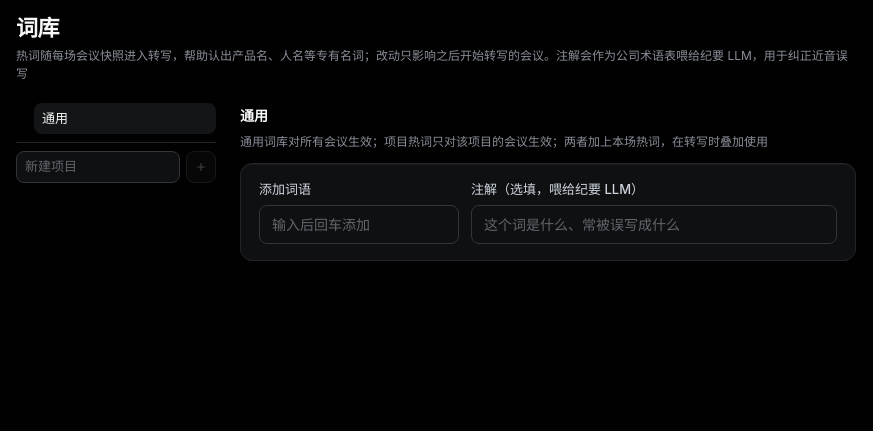
Test case: 词库页 › 回车添加词语并出现在列表；重复词把 409 详情展示出来
Type "meeting-workbench" into the field labelled "添加词语" at [359, 224], box [259,205,459,244]
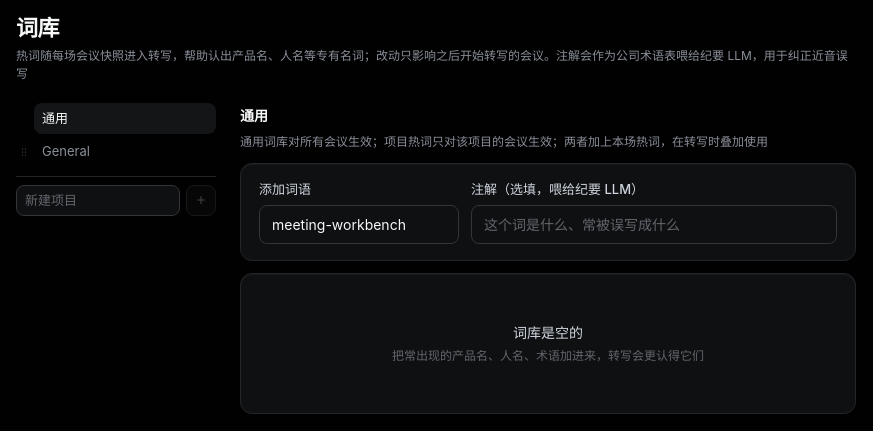
Press Enter in the field labelled "添加词语", box [259,205,459,244]
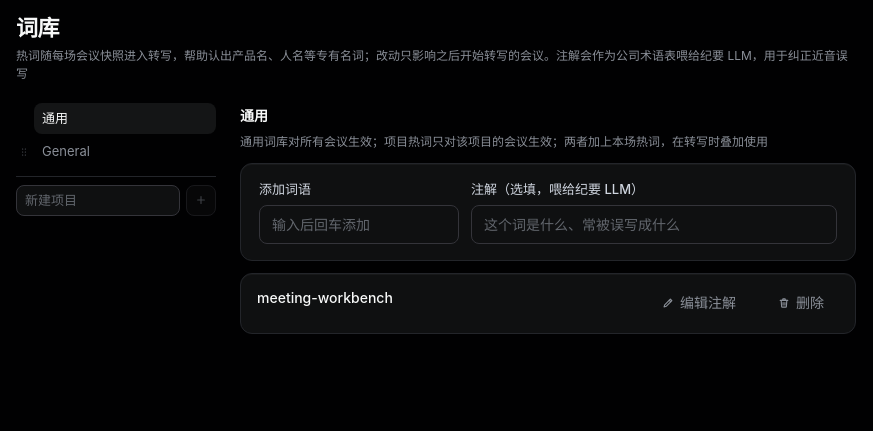
Now the text "meeting-workbench" is shown, box [257,289,393,306]
Now the field labelled "添加词语" is empty
Type "已存在" into the field labelled "添加词语" at [359, 224], box [259,205,459,244]
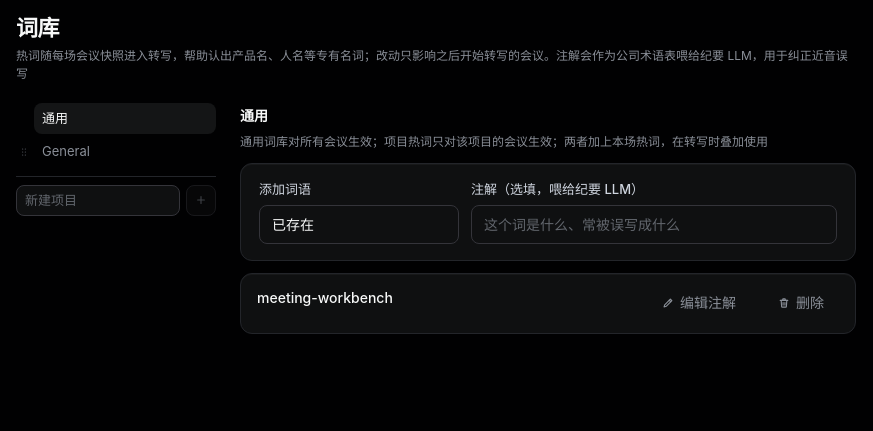
Press Enter in the field labelled "添加词语", box [259,205,459,244]
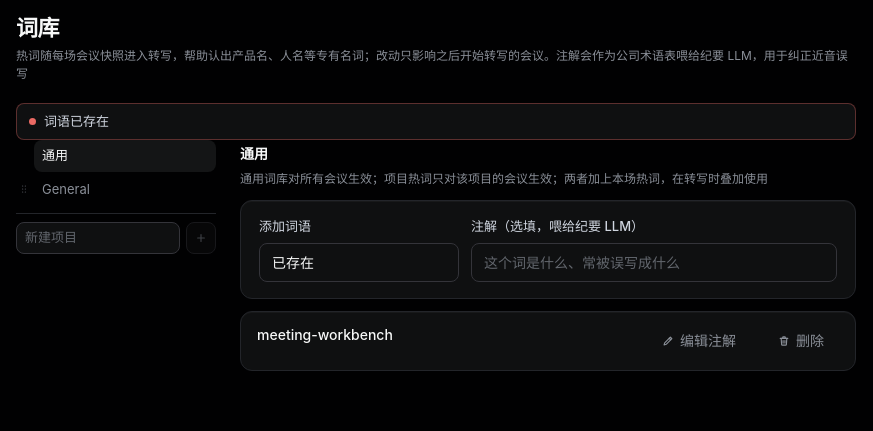
Now the text "词语已存在" is shown, box [16,102,856,140]
